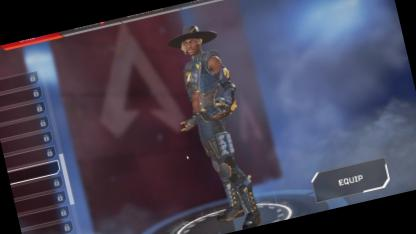Target: (168, 17, 250, 201)
